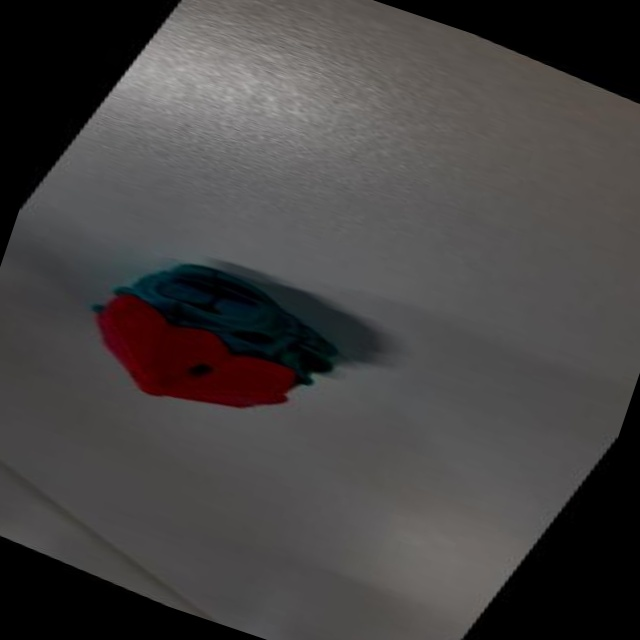House: (41, 220, 393, 480)
